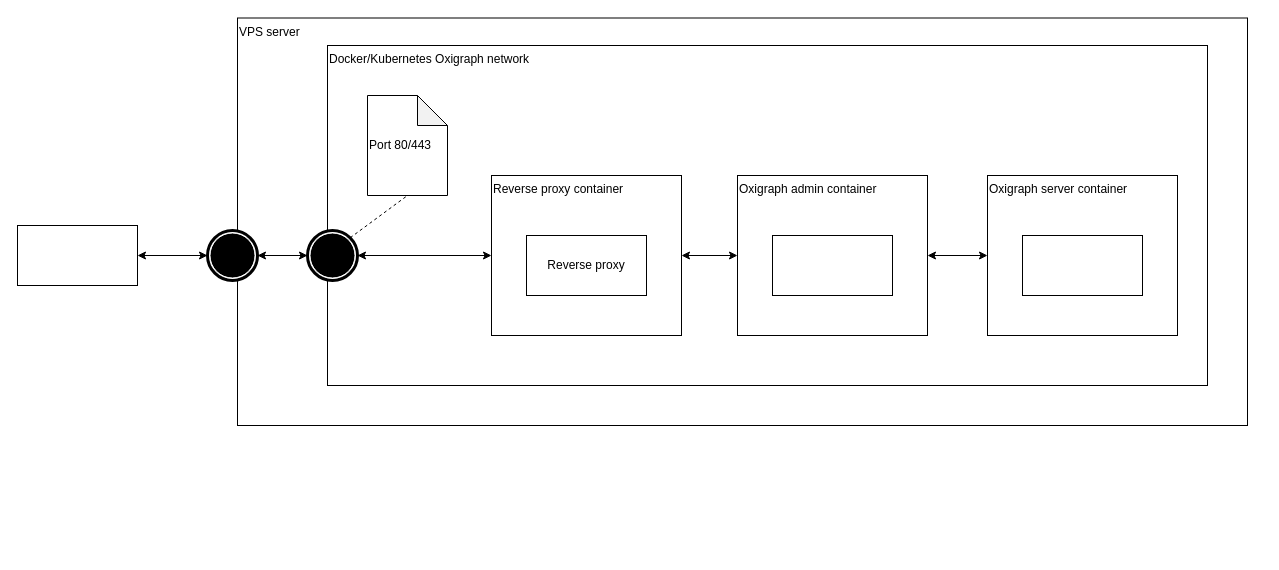
Some shapes in this 1279 by 570 pixel diagram are drawn without their labels. The centre of each missing label's shape, as x and y in pixels:
"Oxigraph admin (Python web app)" goes at (x=832, y=265).
"Oxigraph admin UI (Next.js)" goes at (x=77, y=255).
"Oxigraph server" goes at (x=1082, y=265).
